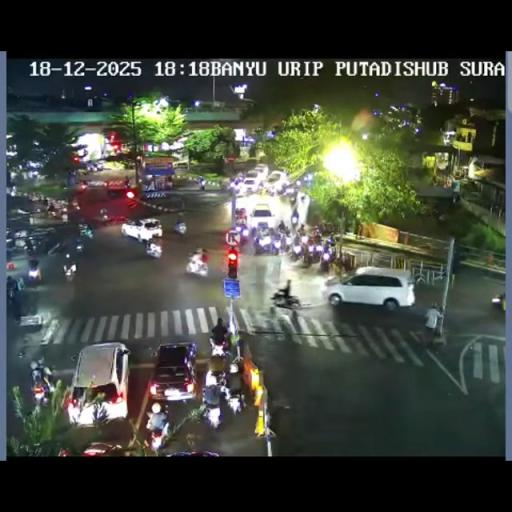Car: (67, 342, 130, 426), (323, 266, 415, 309), (148, 342, 198, 402), (121, 218, 162, 242), (249, 202, 275, 230), (77, 441, 124, 455), (106, 178, 134, 197), (265, 170, 289, 192), (241, 176, 262, 194), (253, 164, 269, 178), (86, 179, 106, 189)
Motorcycle: (144, 406, 170, 450), (30, 366, 54, 408), (6, 276, 28, 318), (422, 306, 444, 346), (203, 366, 227, 394), (273, 278, 296, 306), (254, 228, 278, 254), (225, 386, 245, 416), (208, 335, 230, 362), (186, 253, 208, 277), (204, 402, 222, 429), (232, 220, 249, 245), (63, 253, 77, 280), (318, 248, 333, 272), (28, 262, 42, 285), (144, 240, 161, 258), (25, 236, 44, 252), (491, 292, 506, 311), (290, 239, 304, 259), (46, 241, 65, 255), (228, 177, 243, 193), (278, 231, 289, 251), (302, 245, 312, 265), (74, 236, 85, 254), (310, 229, 322, 244), (324, 234, 335, 250), (69, 198, 81, 212), (80, 226, 94, 238), (174, 221, 186, 234), (28, 191, 42, 202), (228, 360, 238, 374), (46, 202, 56, 216), (452, 190, 461, 204), (193, 246, 205, 256), (163, 178, 173, 190), (276, 220, 286, 232), (288, 190, 297, 203), (99, 208, 108, 221), (250, 224, 258, 238), (238, 208, 246, 222), (298, 223, 306, 236), (86, 162, 95, 173), (6, 246, 12, 262), (95, 161, 105, 170), (301, 234, 309, 244), (79, 182, 87, 191), (199, 180, 206, 190), (61, 212, 68, 222), (42, 198, 48, 206)
